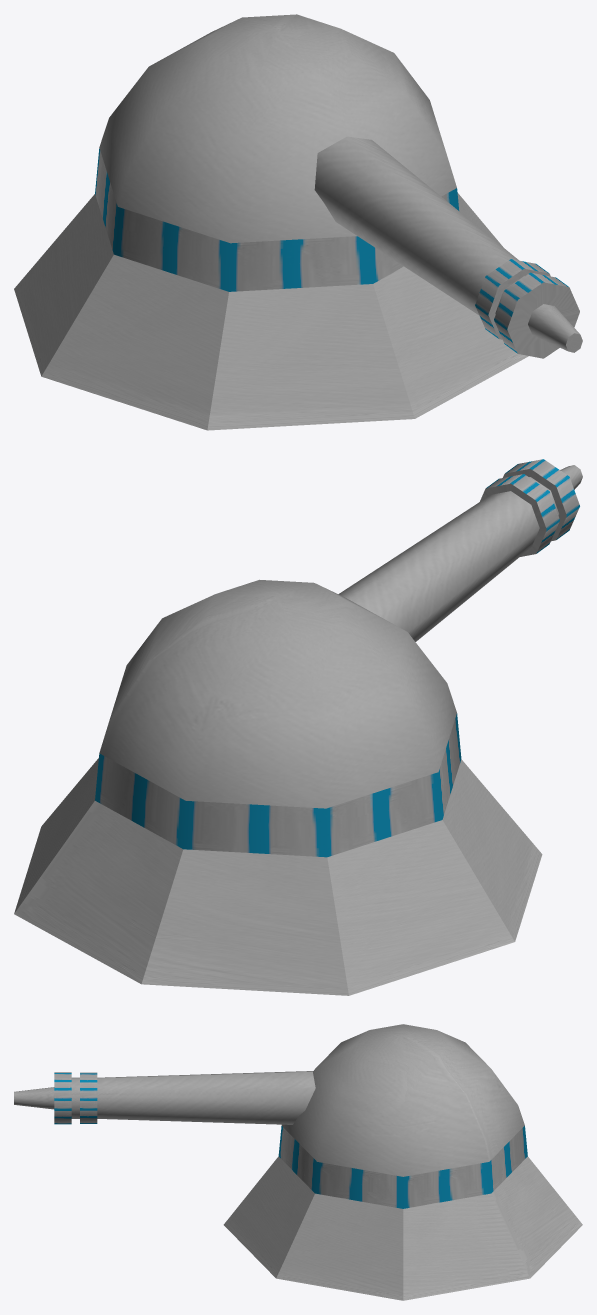
File: Turret.fbx
The picture shows the model from 3 angles, top to bottom: view 1: azimuth 30°, elevation 25°; view 2: azimuth 150°, elevation 25°; view 3: azimuth 270°, elevation 25°; orthographic projection. The views are drawn at different scales.
Visible parts, largest first — view 1: polySurface2; view 2: polySurface2; view 3: polySurface2.
Boxes of the visible parts, box(x1,y1,x2,y2) form: polySurface2: box(14, 14, 582, 430); polySurface2: box(14, 459, 582, 995); polySurface2: box(14, 1024, 582, 1300).
Size of the model in its own units: 120 by 69.65 by 190.
1 material, 1 textured.
